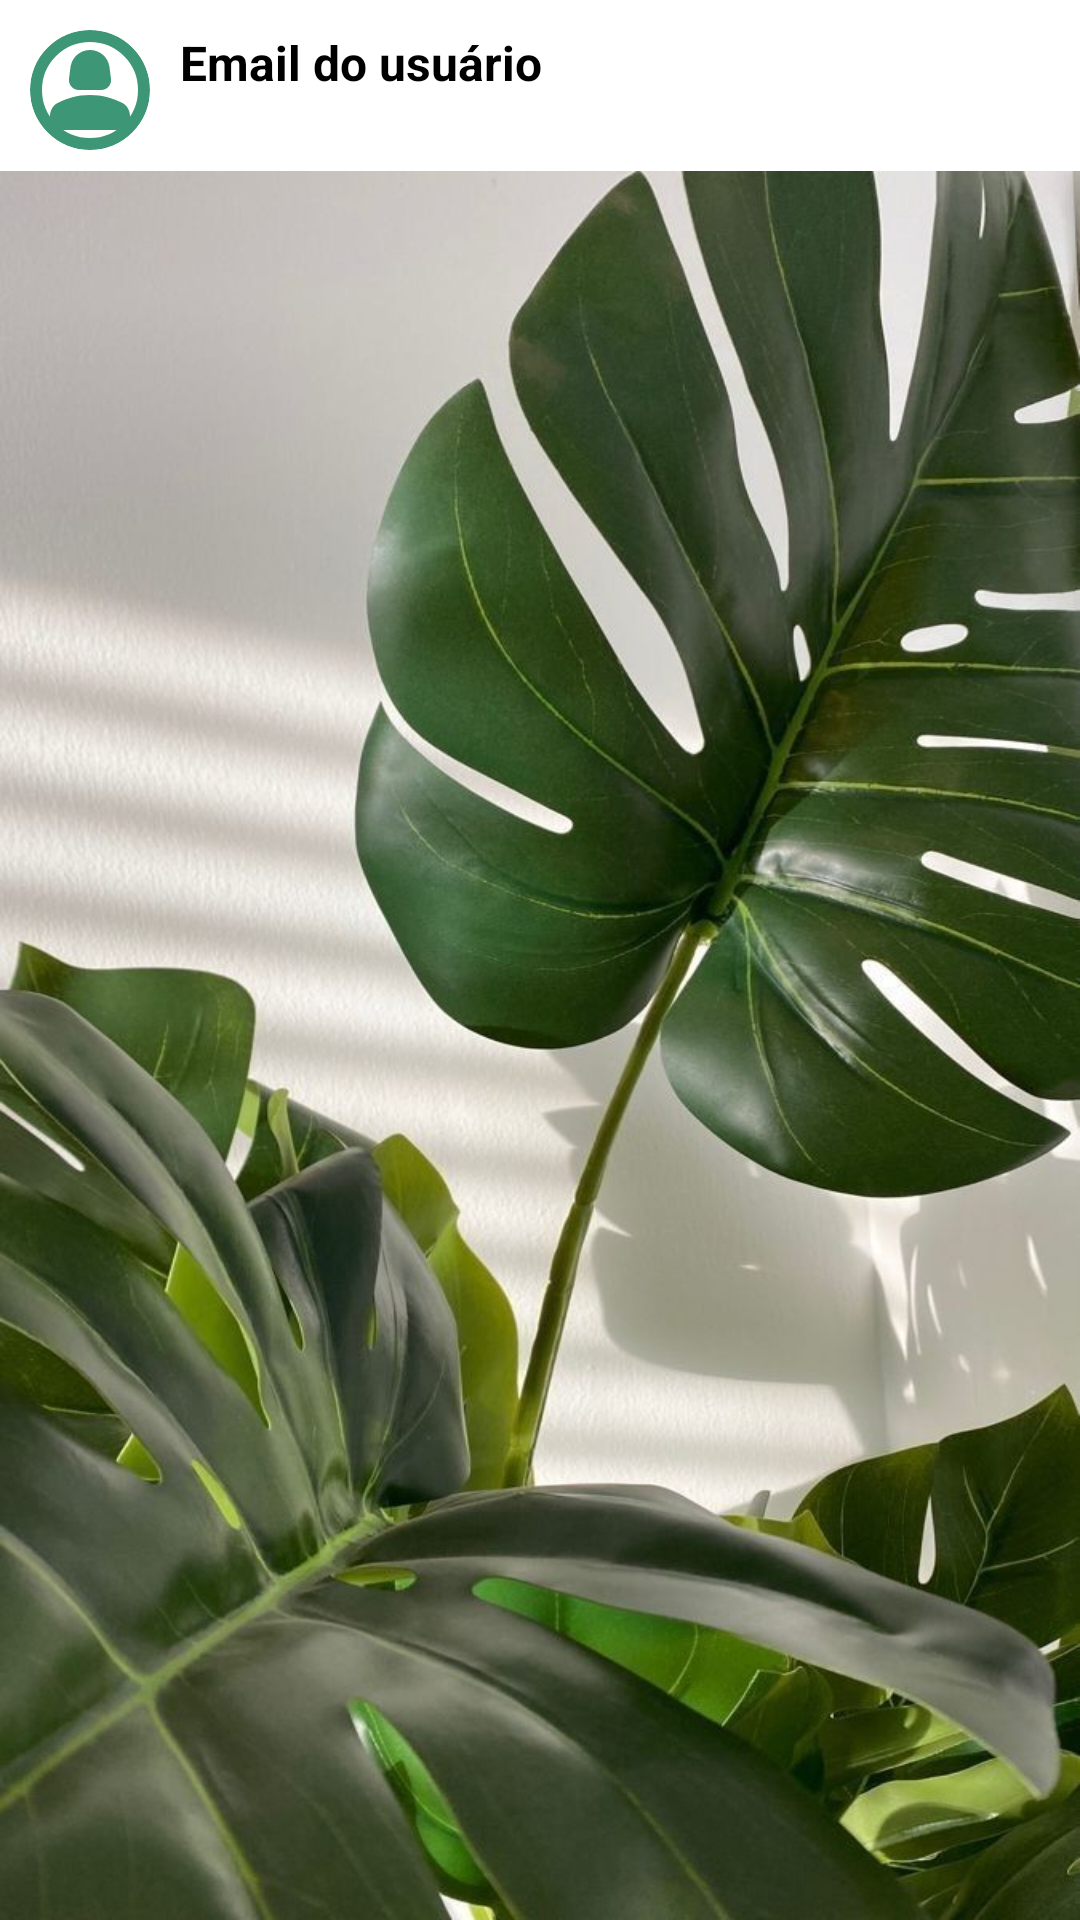

Icon click points for this 1080px×1920px phone screenshot, format point (x, y):
dono post: point (90, 90)
